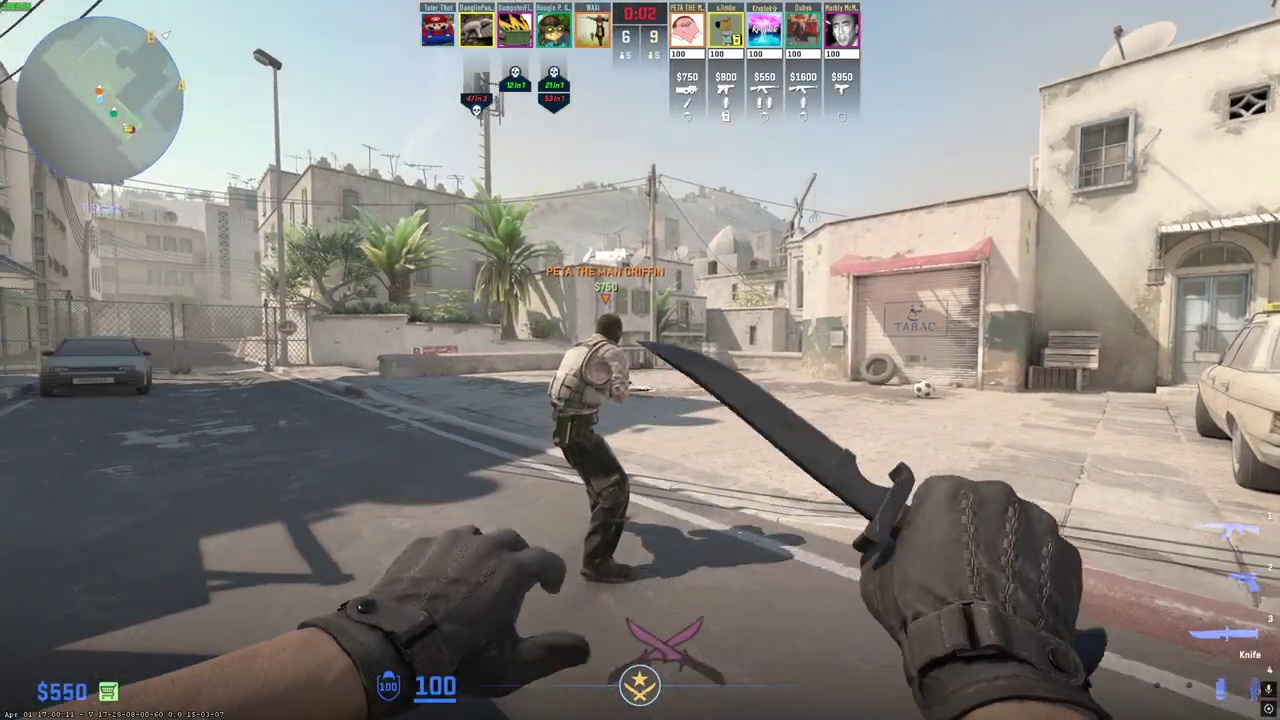Terrorist: (547, 313, 636, 584)
